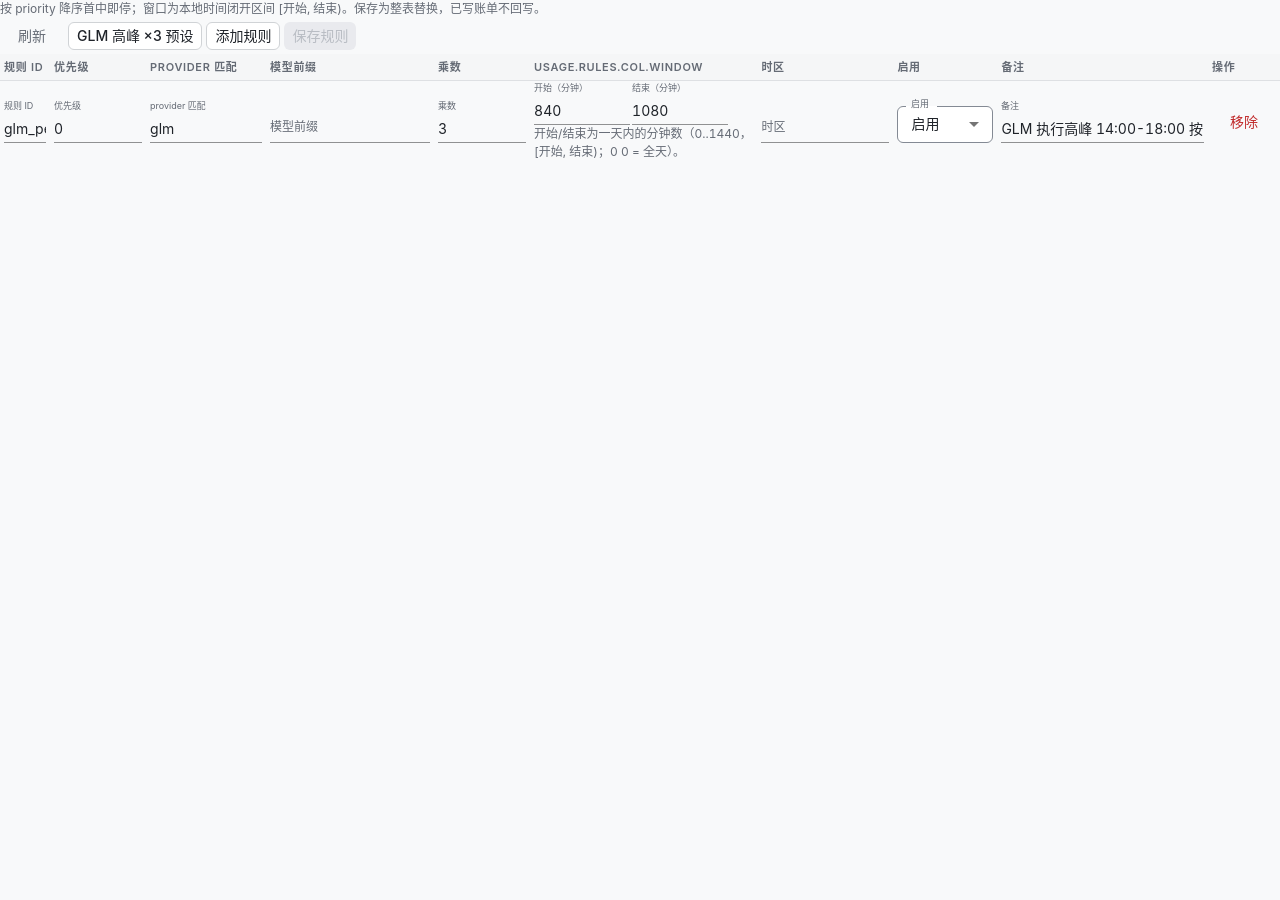
Test: PricingRulesEditor（计价规则） › 「GLM 高峰 ×3」预设按钮：已存在则原位更新草稿；保存提交整表（乘数恰 ×3）
Expected: the table is shown, [0,54,1279,163]
// 先改掉乘数制造草稿差异，再点预设：预设行被原位恢复（不追加第二行、差异清零）。
Replace the text in the field showing "3" with "2" at (482, 130), box [438,117,526,143]
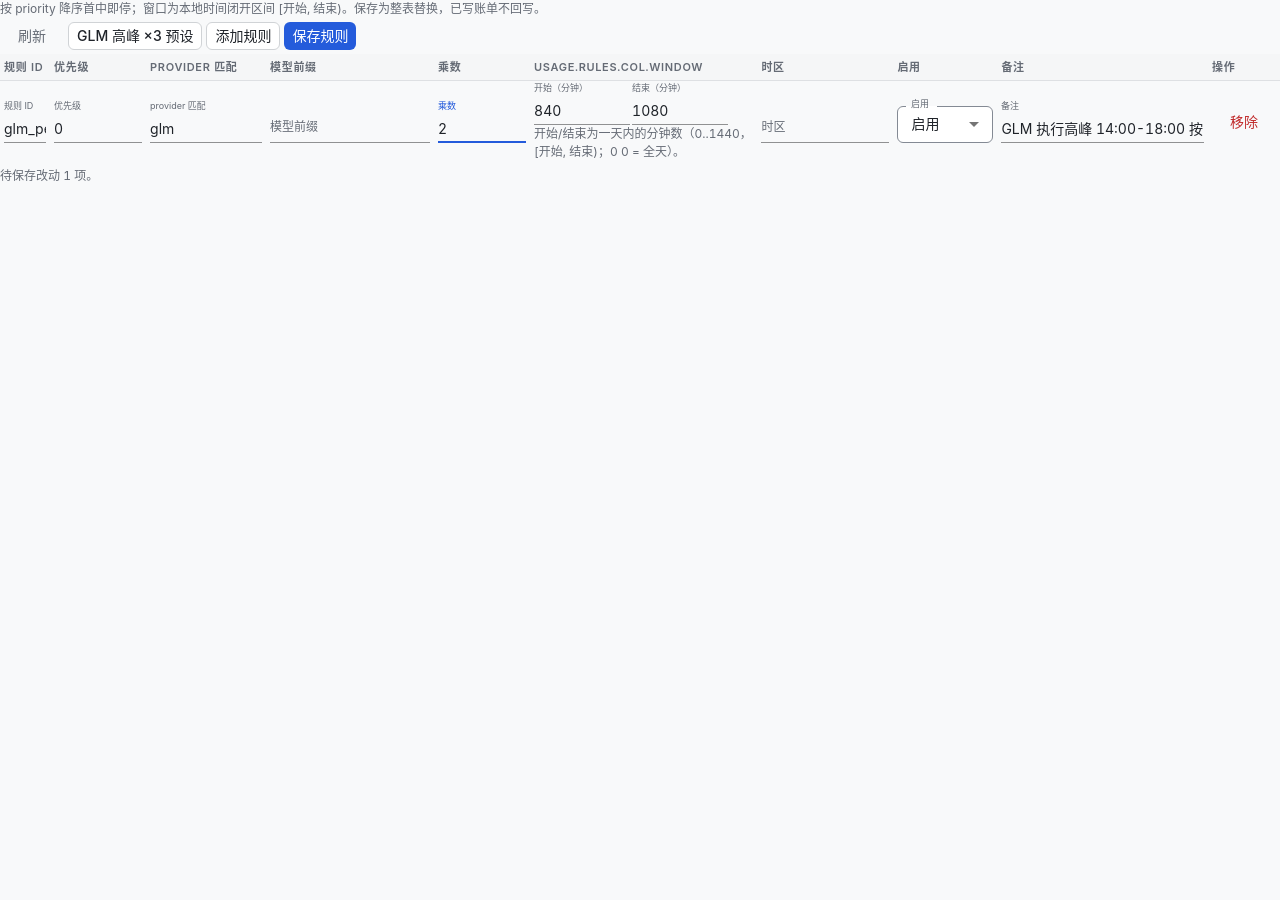
Now the text "待保存改动 1 项。" is shown, box [0,168,98,183]
Click the button "GLM 高峰 ×3 预设" at (135, 36), box [68,22,202,50]
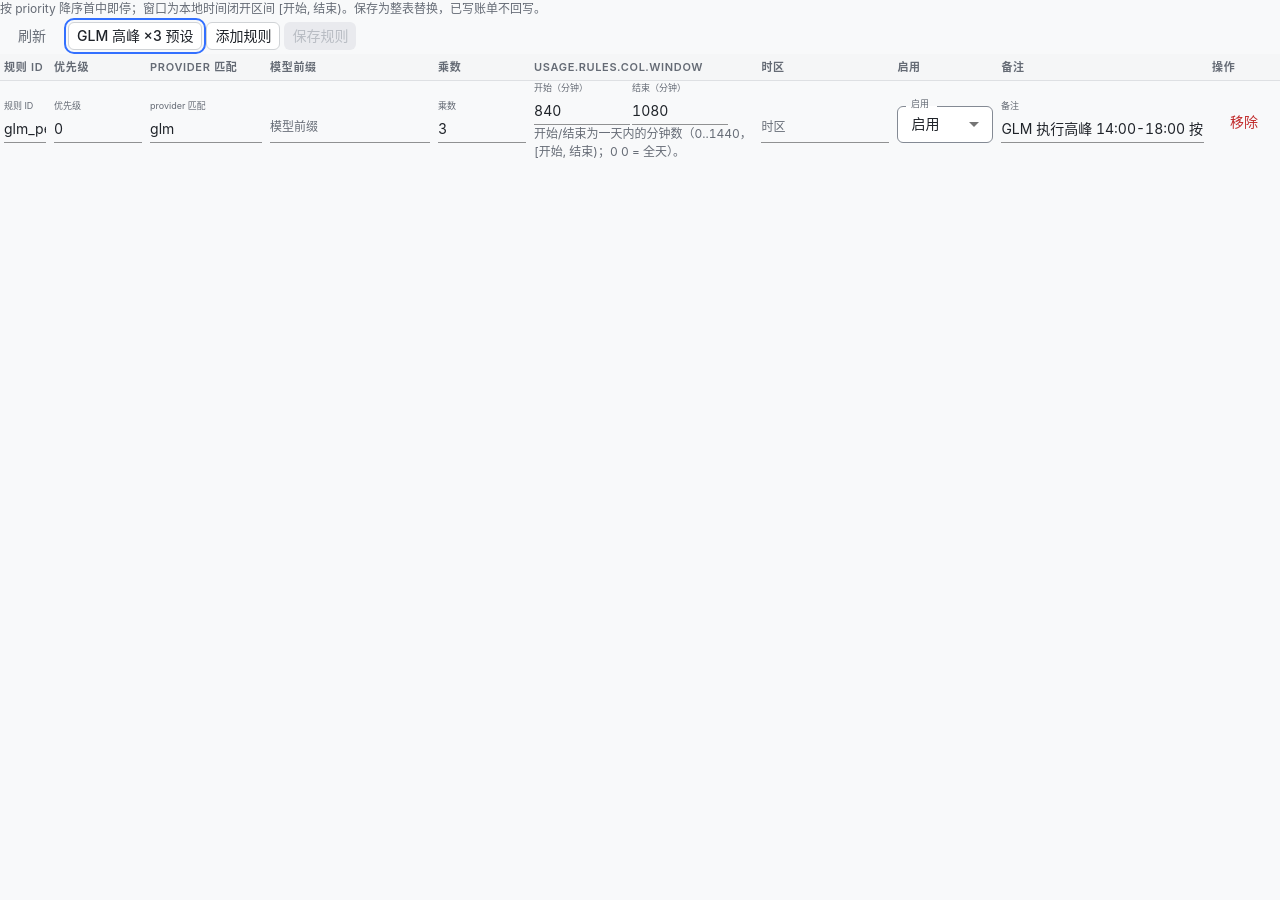
Expected: the number of fields showing "glm_peak_x3" is 1, [4,117,46,143]
Now the text "待保存改动" is gone
// 再制造一处差异（备注）后保存：整表替换、回读一致。
Type "（已核）" into the field showing "执行高峰" at (1103, 130), box [1001,117,1204,143]
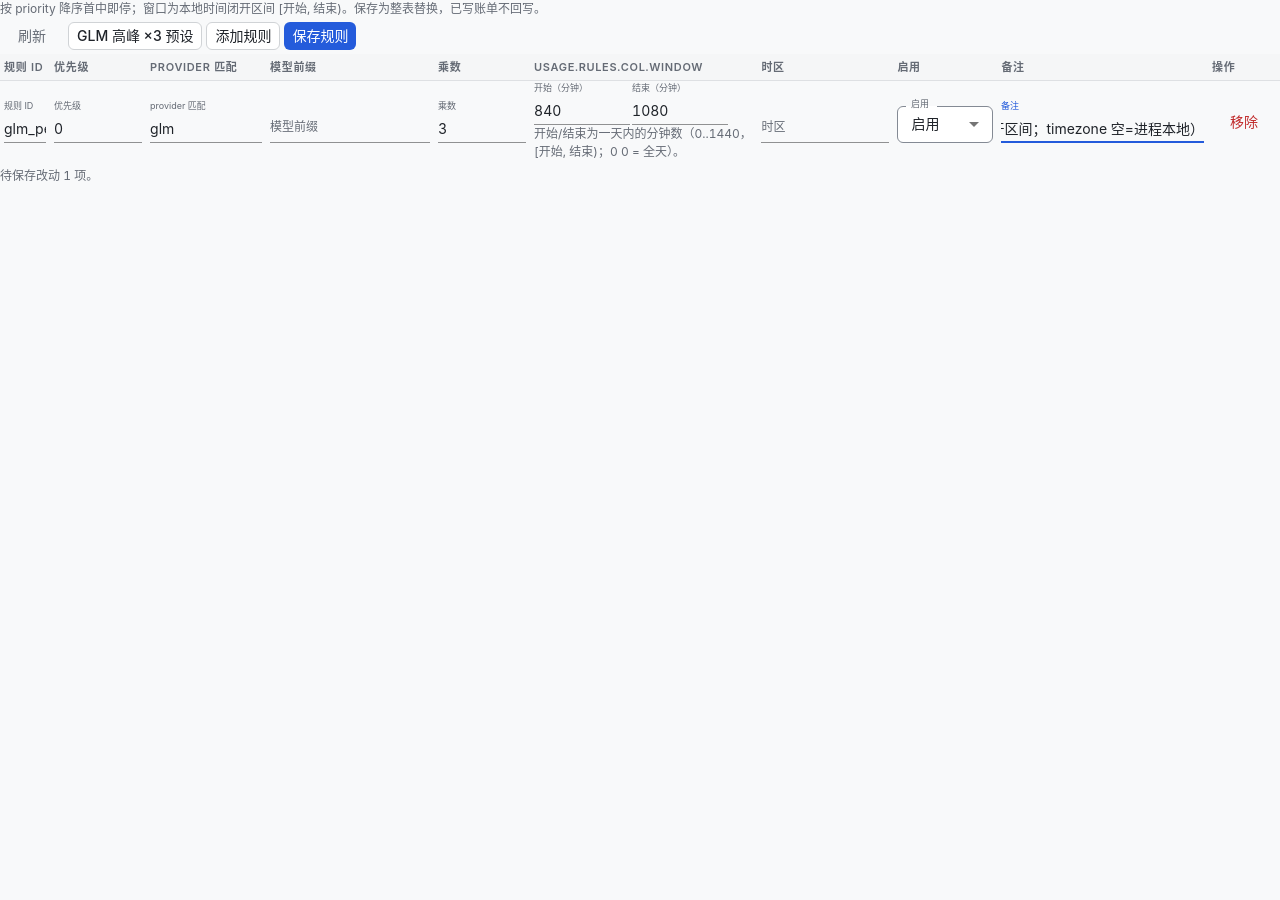
Now the text "待保存改动 1 项。" is shown, box [0,168,98,183]
Click the button "保存规则" at (320, 36), box [284,22,356,50]
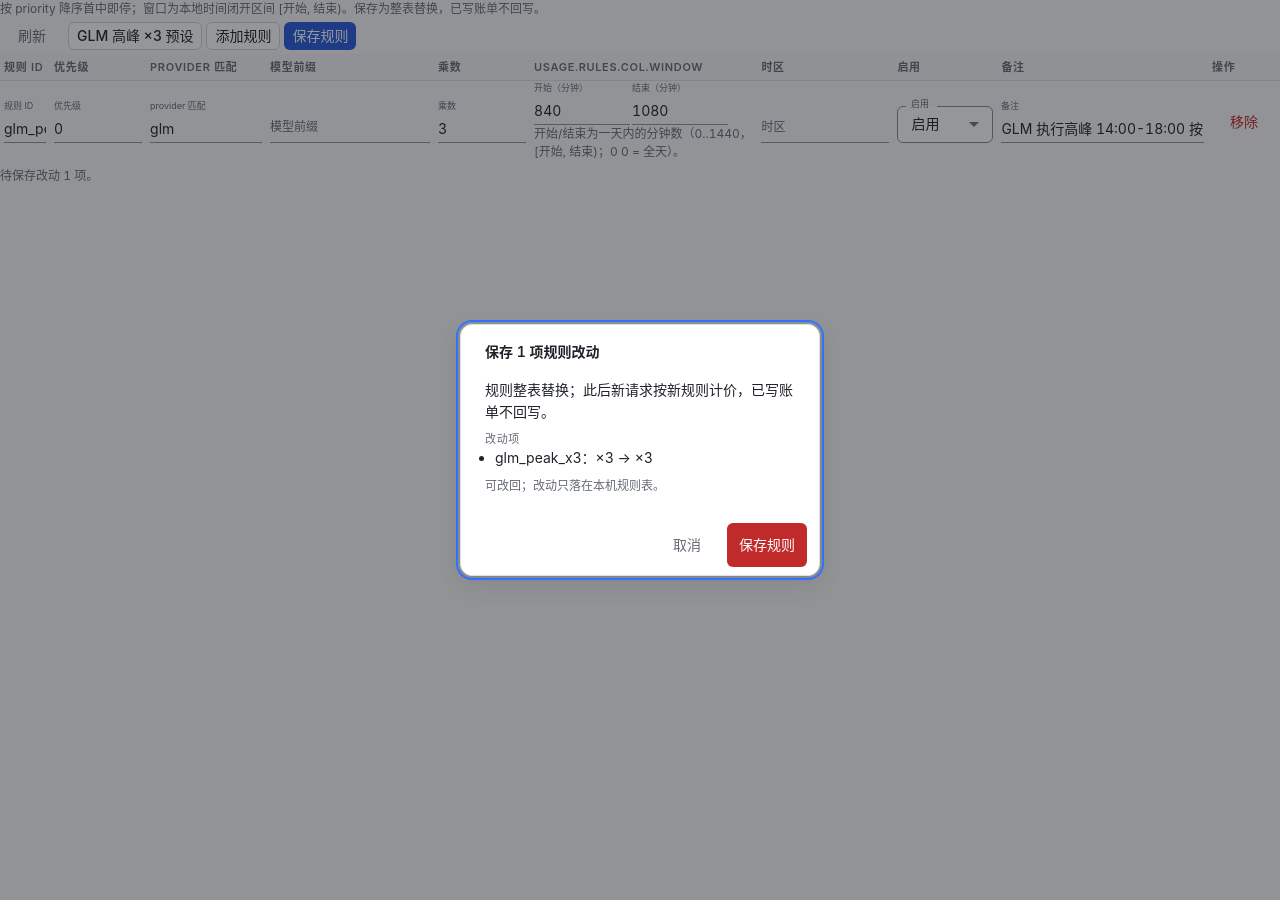
Click the button "保存规则" at (767, 545), box [727,523,807,567]
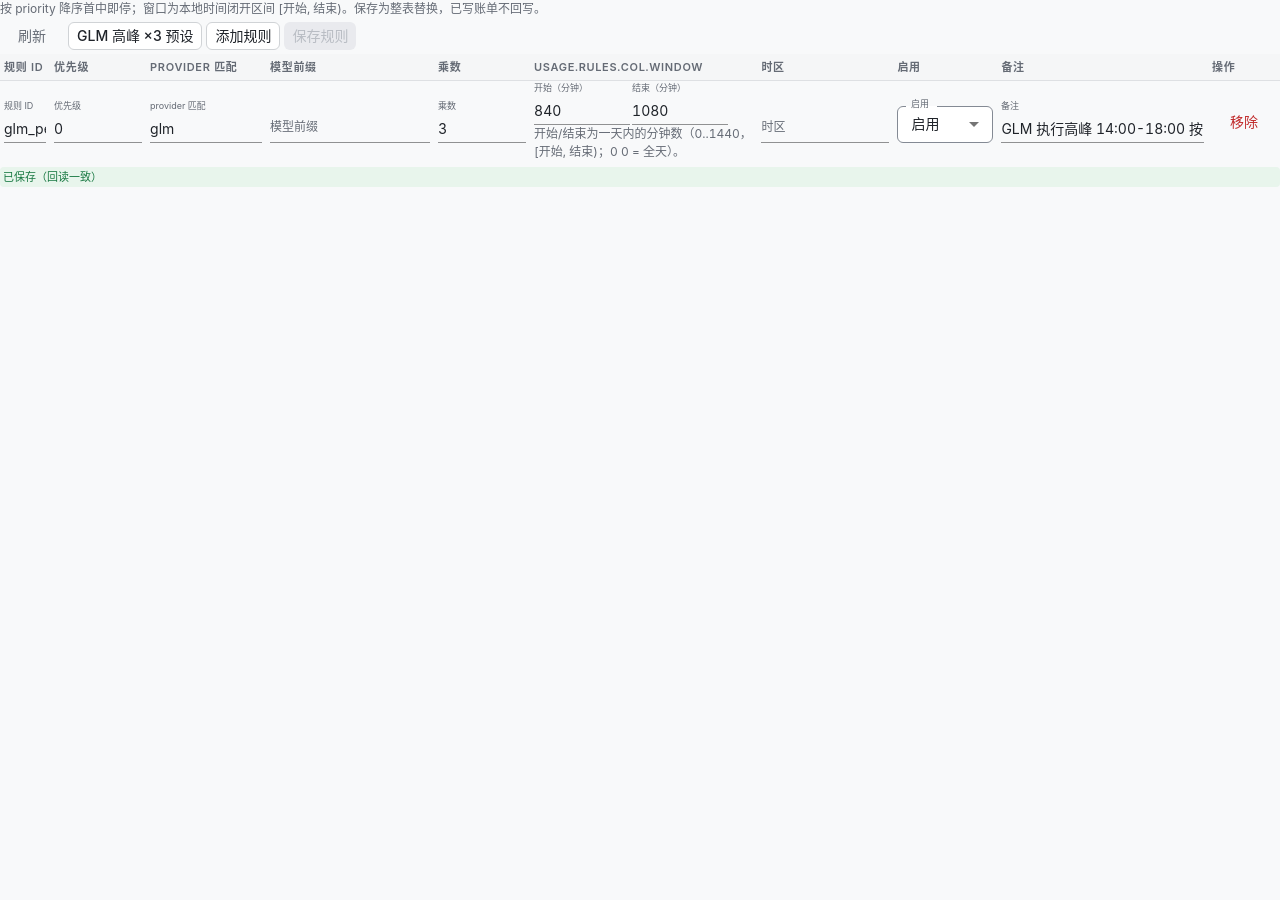
Now the text "已保存（回读一致）" is shown, box [0,167,1279,187]
